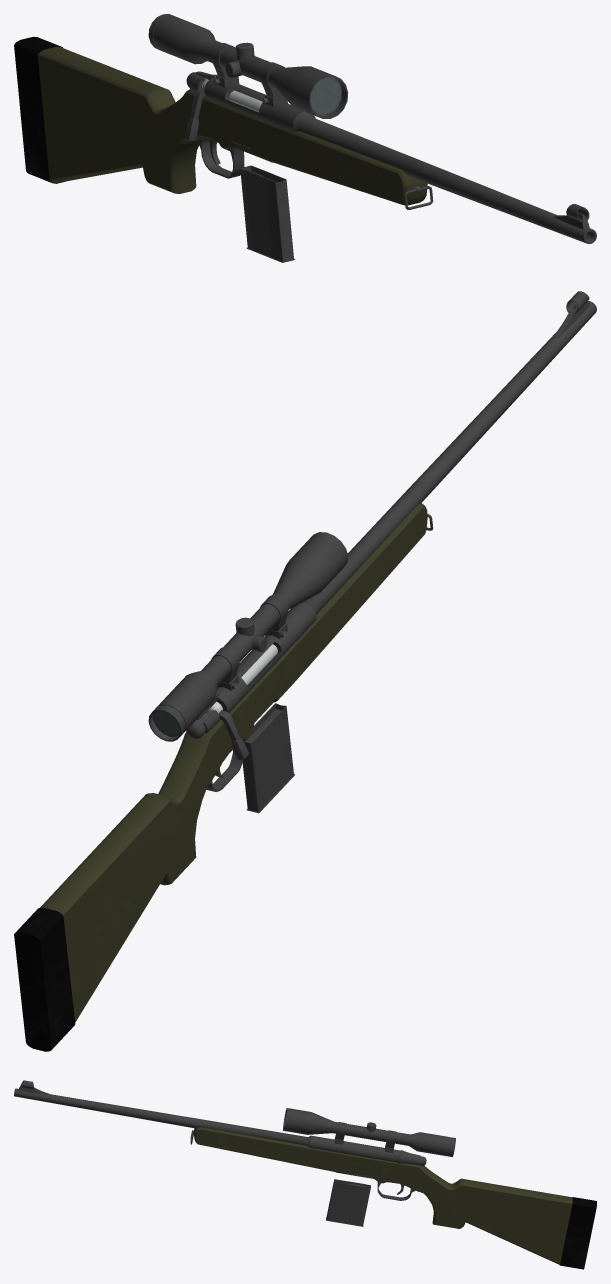
The model's file is sniper_cc0.glb.
The picture shows the model from 3 angles, top to bottom: view 1: azimuth 30°, elevation 25°; view 2: azimuth 150°, elevation 25°; view 3: azimuth 270°, elevation 25°; orthographic projection. The views are drawn at different scales.
Parts seen in each view (by area): view 1: Trigger; view 2: Trigger; view 3: Trigger.
Boxes of the visible parts, x1=… form: Trigger: x1=14, y1=14, x2=596, y2=262; Trigger: x1=14, y1=291, x2=596, y2=1051; Trigger: x1=14, y1=1080, x2=596, y2=1269.
Bounding box in the file's own units: 0.0583 × 0.4072 × 1.15.
1 material, 1 textured.
